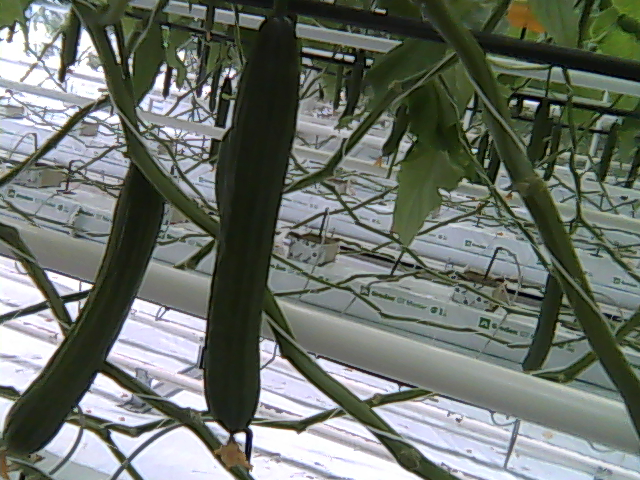concombre: (1, 157, 168, 463), (201, 5, 306, 478)
